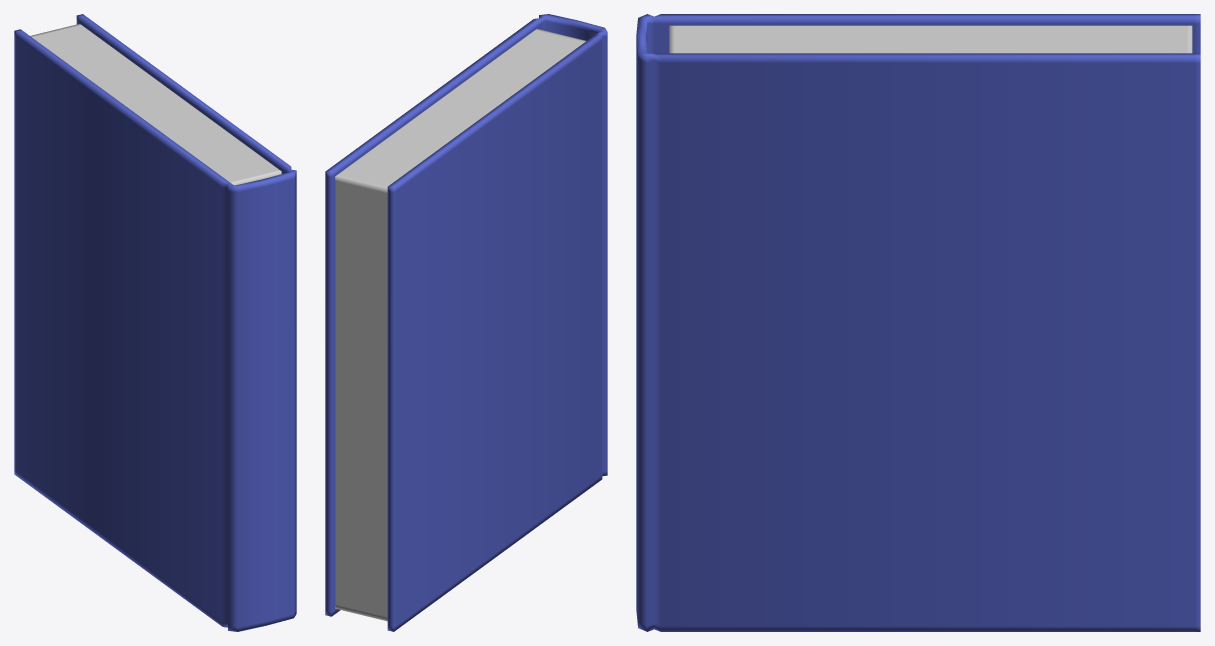
File: Simple Book.fbx
3 views of the same model, side by side, from view 1: azimuth 30°, elevation 25°; view 2: azimuth 150°, elevation 25°; view 3: azimuth 270°, elevation 25° (orthographic). The views are drawn at different scales.
Parts seen in each view (by area): view 1: book; view 2: book; view 3: book.
Boxes of the visible parts, x1=… form: book: x1=14, y1=14, x2=296, y2=631; book: x1=325, y1=14, x2=607, y2=631; book: x1=636, y1=14, x2=1200, y2=631.
Size of the model in its own units: 5.52 by 34.13 by 30.38.
